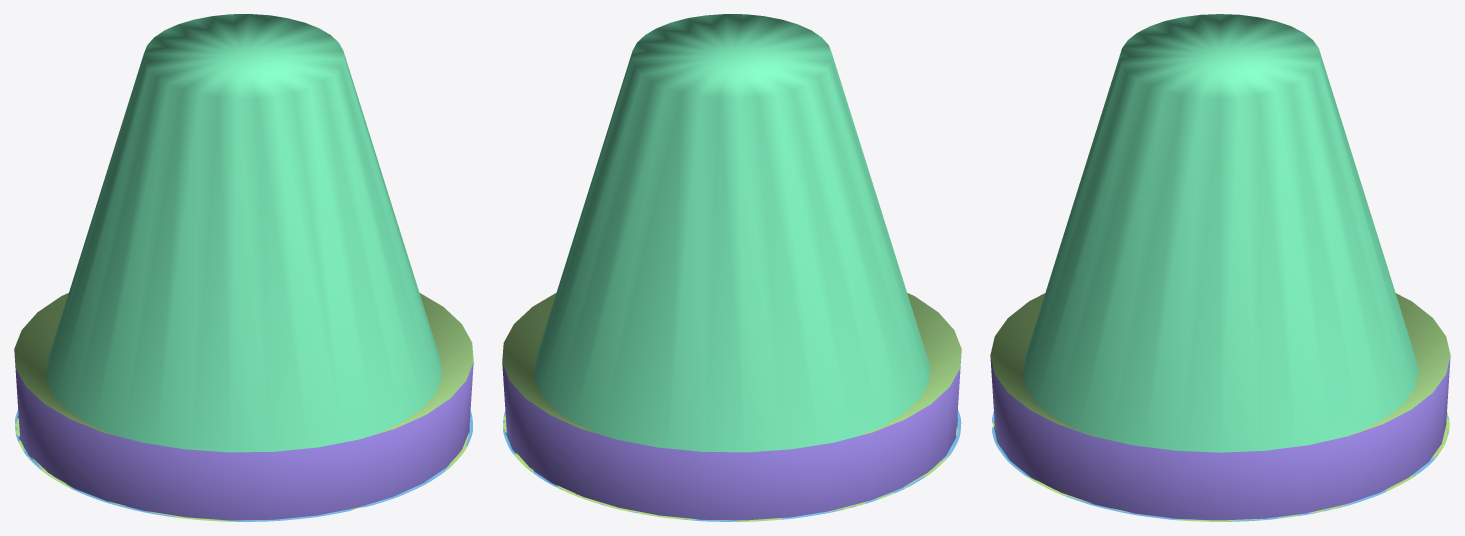
The model's file is L_Attack.fbx.
The picture shows the model from 3 angles, left to right: view 1: azimuth 30°, elevation 25°; view 2: azimuth 150°, elevation 25°; view 3: azimuth 270°, elevation 25°; orthographic projection.
Visible parts, largest first — view 1: Drum; view 2: Drum; view 3: Drum.
Part boxes in pixels (<box>): Drum: <box>14,14,473,521</box>; Drum: <box>502,14,961,521</box>; Drum: <box>990,14,1450,521</box>.
Bounding box in the file's own units: 2.32 × 2.05 × 2.32.
